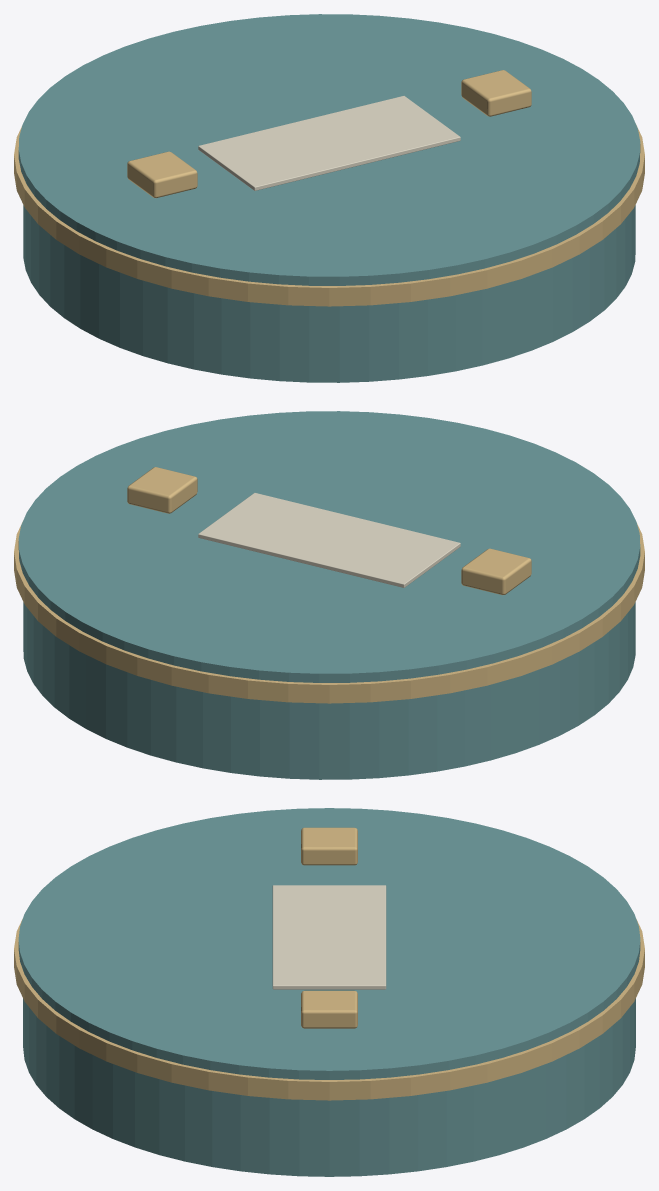
The model's file is abandoned-cinema-and-projection-booth-abandoned-cinema-43dc76d8__29708.glb.
3 renders of one model, top to bottom at view 1: azimuth 30°, elevation 25°; view 2: azimuth 150°, elevation 25°; view 3: azimuth 270°, elevation 25°, orthographic.
Parts seen in each view (by area): view 1: abandoned-cinema-and-projection-booth-film-canister; view 2: abandoned-cinema-and-projection-booth-film-canister; view 3: abandoned-cinema-and-projection-booth-film-canister.
Boxes of the visible parts, box(x1,y1,x2,y2) form: abandoned-cinema-and-projection-booth-film-canister: box(14, 14, 644, 382); abandoned-cinema-and-projection-booth-film-canister: box(14, 411, 644, 779); abandoned-cinema-and-projection-booth-film-canister: box(14, 808, 644, 1176).
Size of the model in its own units: 0.556 by 0.125 by 0.556.
